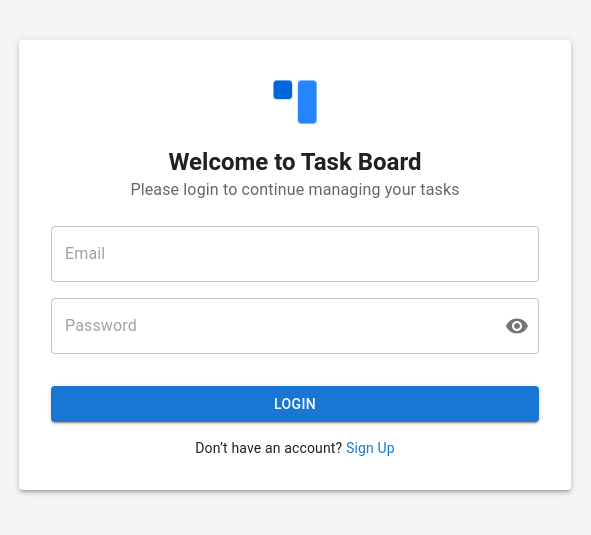
Test: Login Component › shows validation errors if fields are empty
Click the button "Login". click: (295, 404)
box: [51,386,539,422]
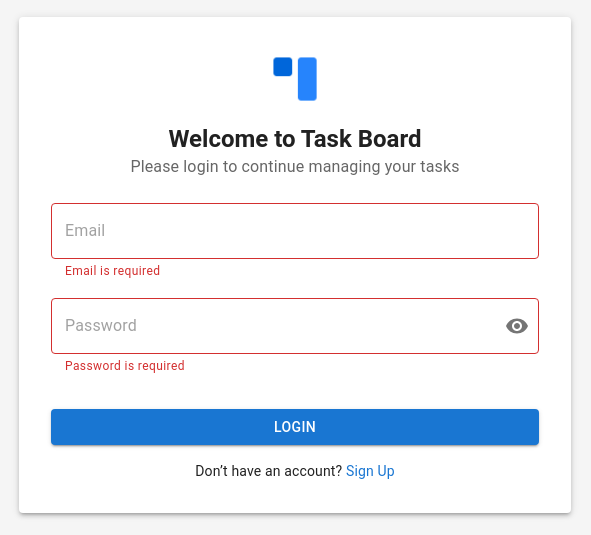
Check: the text "Email is required" is shown, box [65,264,160,278]
Check: the text "Password is required" is shown, box [65,359,185,373]
